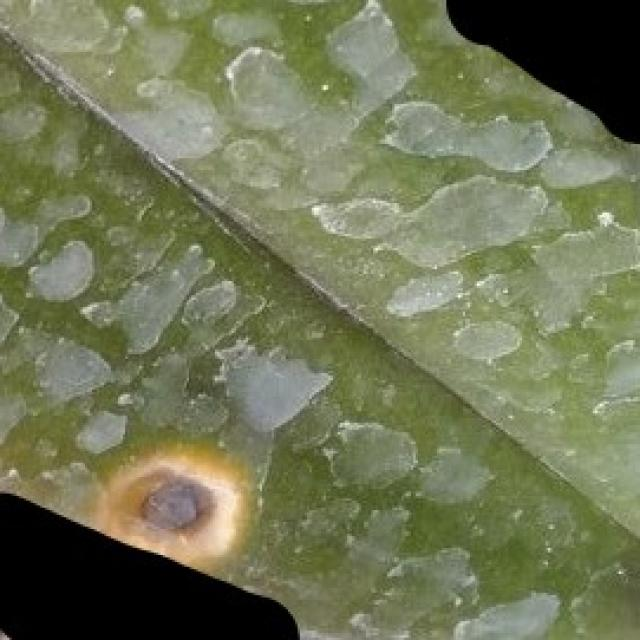mite: (113, 0, 368, 116), (0, 94, 47, 144), (156, 0, 215, 19)
sunburn: (90, 435, 257, 567)
